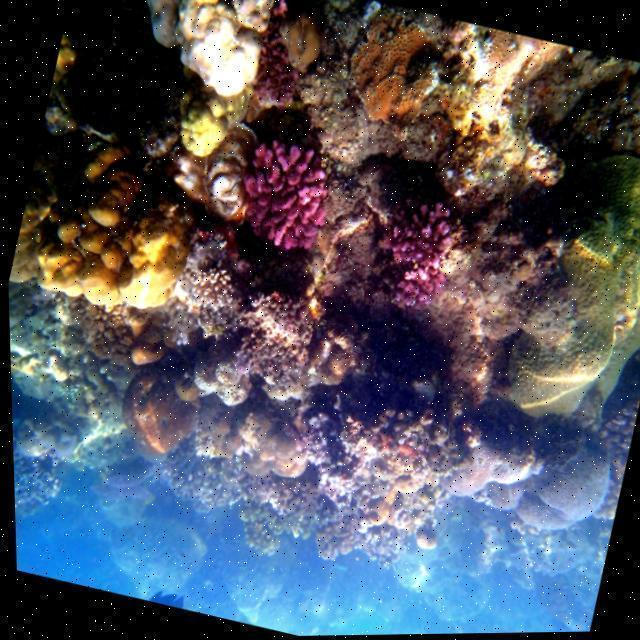Healthy Coral: (15, 0, 640, 539), (30, 123, 229, 339), (240, 122, 341, 275), (372, 191, 473, 339)
